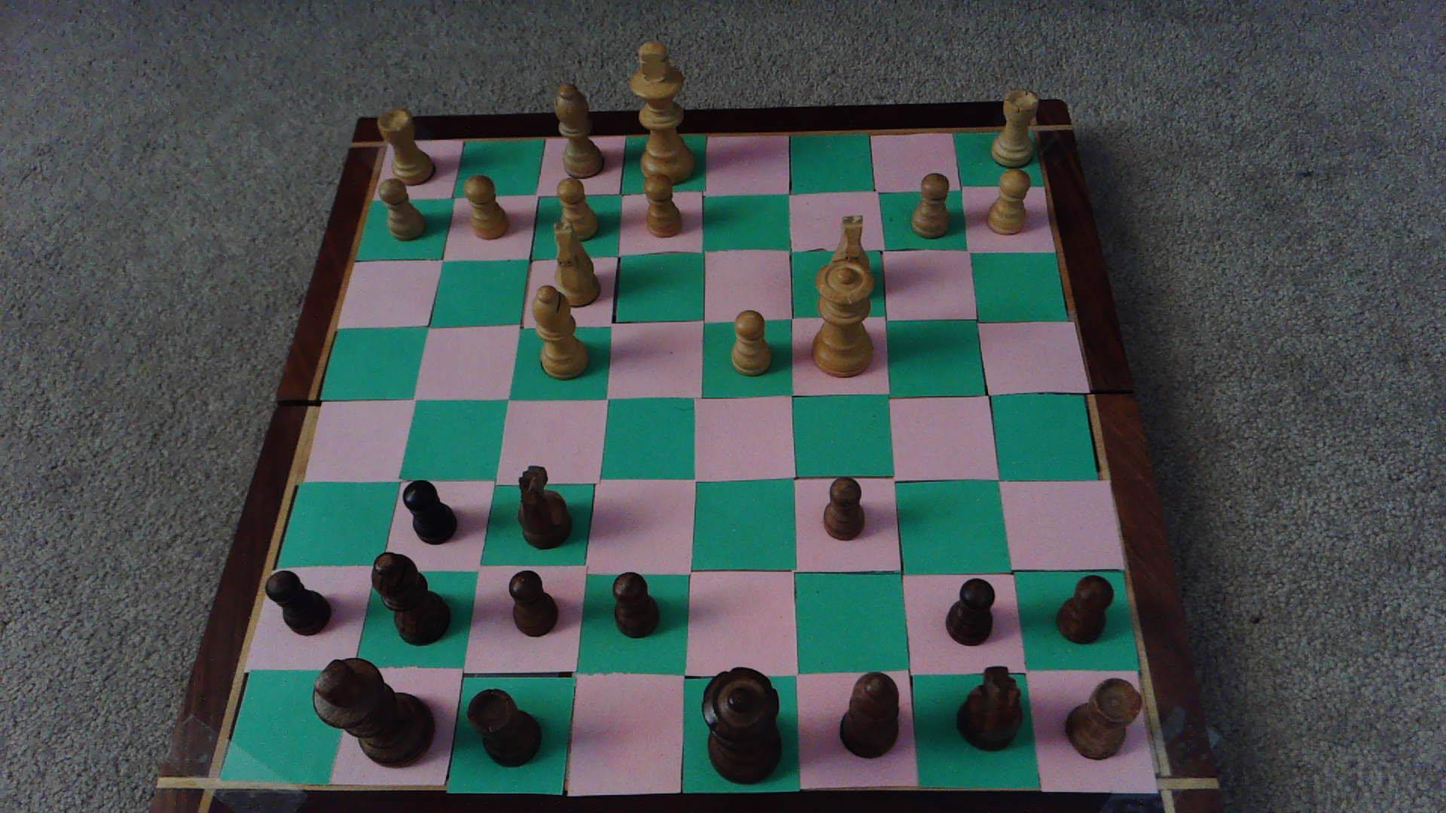dark_piece: (313, 658, 434, 766), (702, 668, 782, 784), (372, 553, 450, 645), (1065, 678, 1142, 760), (467, 689, 541, 766), (957, 666, 1022, 751), (840, 671, 898, 758), (520, 466, 572, 549), (265, 570, 330, 635), (1057, 575, 1113, 644), (401, 480, 456, 542), (509, 570, 558, 636), (946, 579, 993, 645), (612, 572, 659, 638), (823, 477, 864, 540)
white_piece: (629, 42, 695, 186), (814, 261, 874, 376), (532, 285, 587, 379), (825, 214, 872, 309), (556, 84, 603, 178), (378, 109, 434, 184), (552, 223, 600, 308), (991, 89, 1039, 169), (378, 178, 426, 240), (464, 175, 507, 239), (641, 173, 683, 238), (555, 178, 599, 240), (989, 169, 1030, 234), (731, 310, 770, 376), (911, 173, 949, 239)
